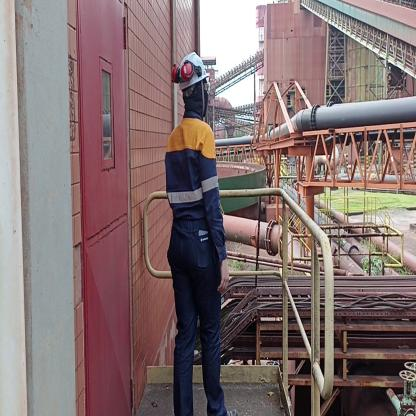Balaclava: (181, 80, 208, 119)
Capacete: (174, 49, 214, 85)
Operacional: (165, 121, 224, 234)
